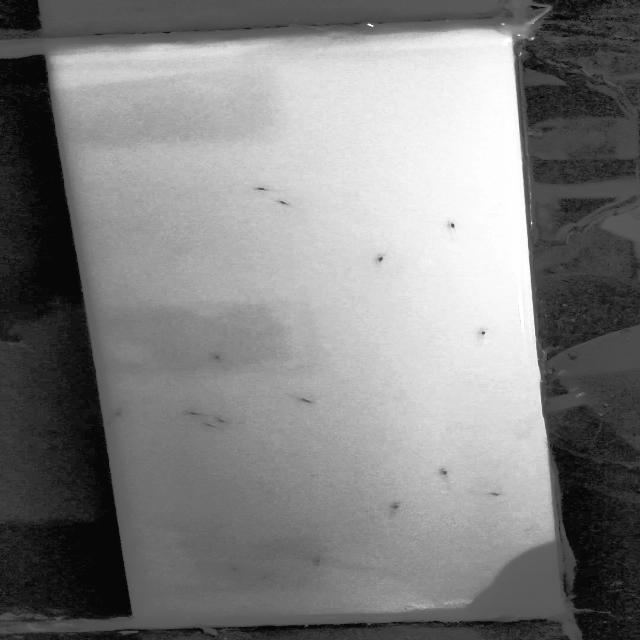shrimp: (436, 215, 464, 238), (188, 419, 228, 433), (290, 393, 326, 408), (382, 496, 408, 516), (370, 250, 395, 269), (208, 352, 238, 367), (94, 412, 124, 427), (208, 410, 236, 426), (248, 185, 291, 195), (253, 568, 285, 580), (273, 198, 303, 210), (178, 408, 214, 418), (309, 549, 328, 567), (475, 326, 494, 343), (111, 406, 136, 418), (436, 464, 454, 478), (482, 488, 506, 498), (221, 561, 245, 571)
